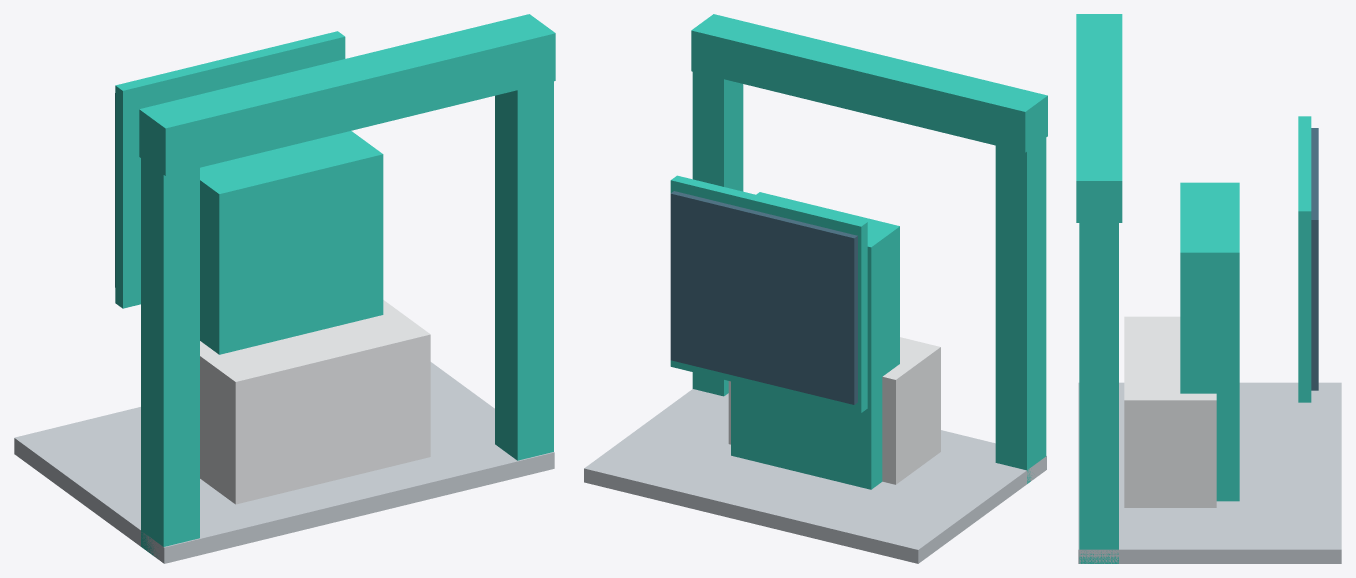
3 renders of one model, left to right at view 1: azimuth 30°, elevation 25°; view 2: azimuth 150°, elevation 25°; view 3: azimuth 270°, elevation 25°, orthographic. The views are drawn at different scales.
Visible parts, largest first — view 1: Exhibition Booth Concept; view 2: Exhibition Booth Concept; view 3: Exhibition Booth Concept.
Boxes of the visible parts, <box> form: Exhibition Booth Concept: <box>14,14,555,563</box>; Exhibition Booth Concept: <box>584,14,1047,563</box>; Exhibition Booth Concept: <box>1076,14,1341,563</box>.
Size of the model in its own units: 3 by 3.2 by 2.01.
